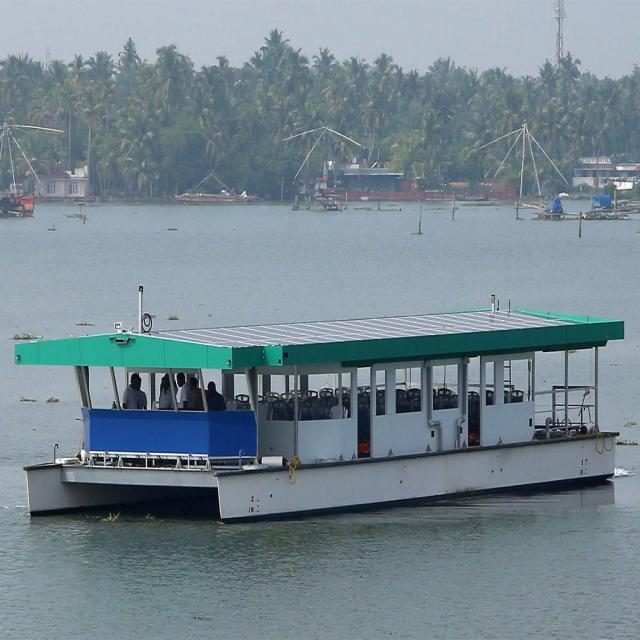houseboat: (21, 255, 625, 521)
